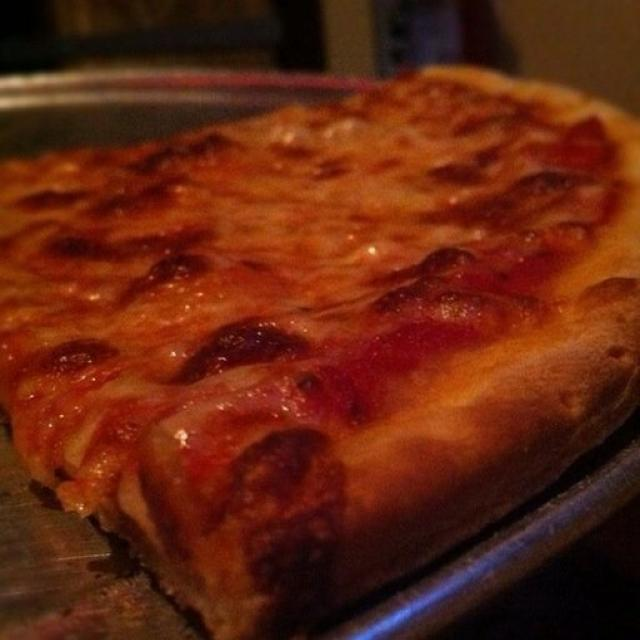Pizza: (0, 69, 640, 637)
